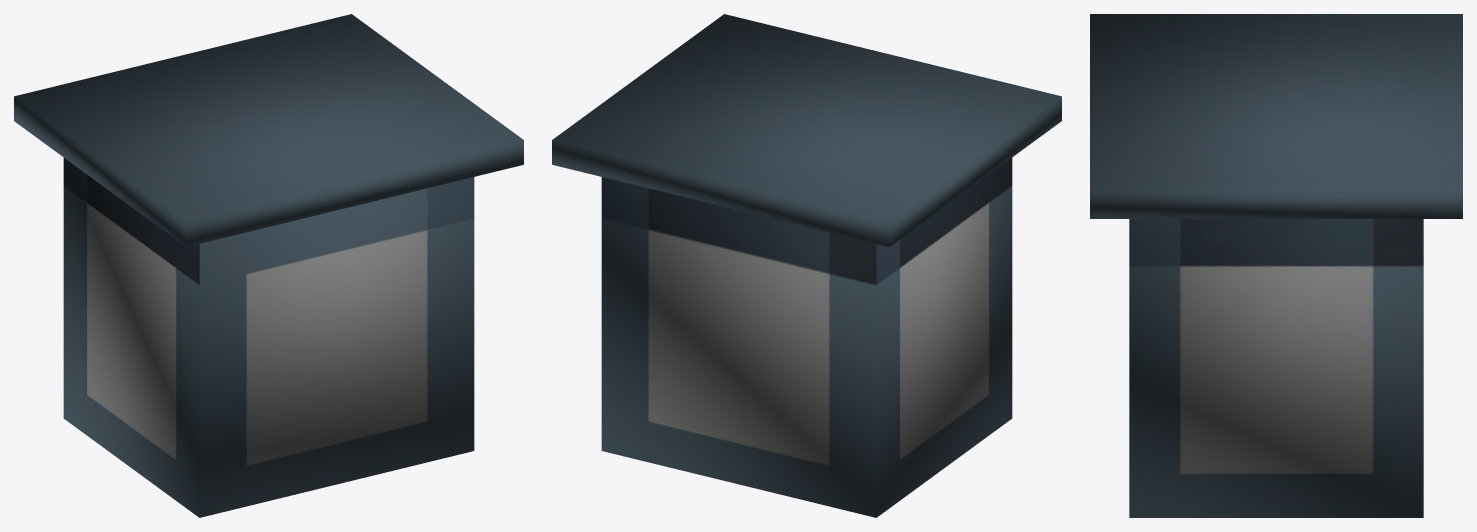
Rendered from checkpoint-booth-tripo-original.glb.
3 renders of one model, left to right at view 1: azimuth 30°, elevation 25°; view 2: azimuth 150°, elevation 25°; view 3: azimuth 270°, elevation 25°, orthographic. The views are drawn at different scales.
Visible parts, largest first — view 1: Authored_surface_011; view 2: Authored_surface_011; view 3: Authored_surface_011.
Part boxes in pixels (<box>): Authored_surface_011: <box>14,14,523,517</box>; Authored_surface_011: <box>552,14,1061,517</box>; Authored_surface_011: <box>1090,14,1462,517</box>.
Bounding box in the file's own units: 1 × 0.8953 × 0.8837.
1 material, 1 textured.
